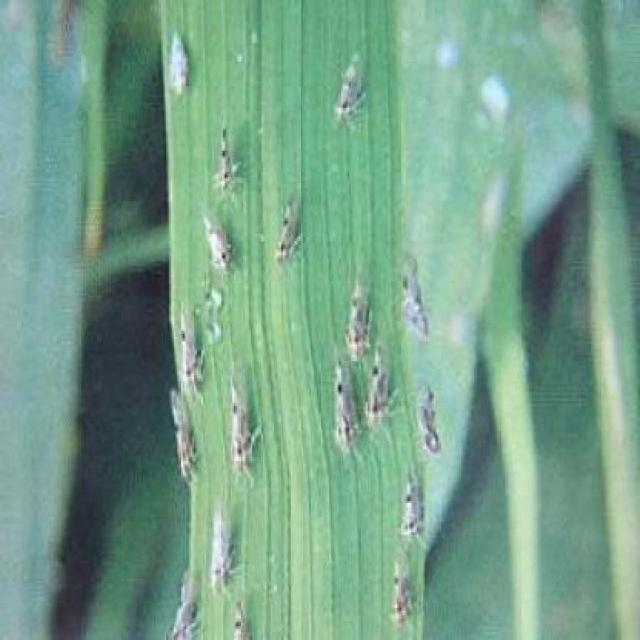brown-planthopper: (162, 400, 198, 480), (230, 370, 256, 479), (274, 187, 308, 267), (334, 55, 368, 134), (409, 377, 442, 458), (207, 504, 235, 593), (333, 367, 359, 461), (177, 298, 200, 396), (197, 208, 232, 272), (364, 358, 391, 438), (345, 275, 369, 360), (212, 129, 238, 203), (390, 550, 413, 624), (165, 34, 190, 98), (402, 475, 422, 543)
